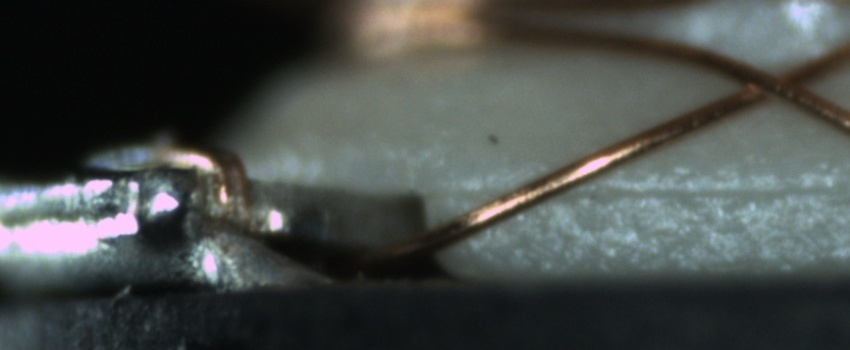CL: (728, 54, 824, 112)
DL: (431, 157, 850, 221)
TE: (144, 137, 252, 232)
